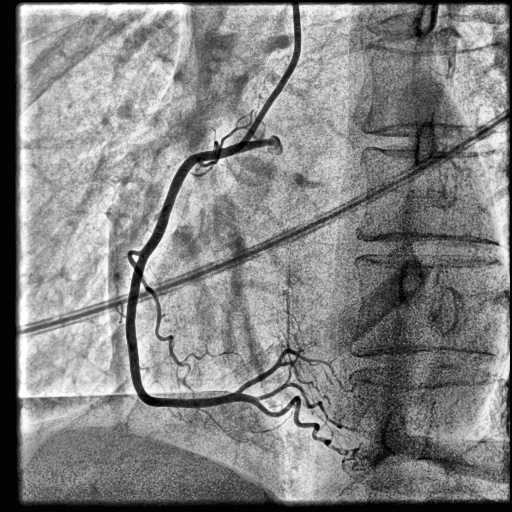pborca: (236, 348, 317, 392)
pda: (239, 393, 348, 456)
rca: (126, 144, 242, 409)
